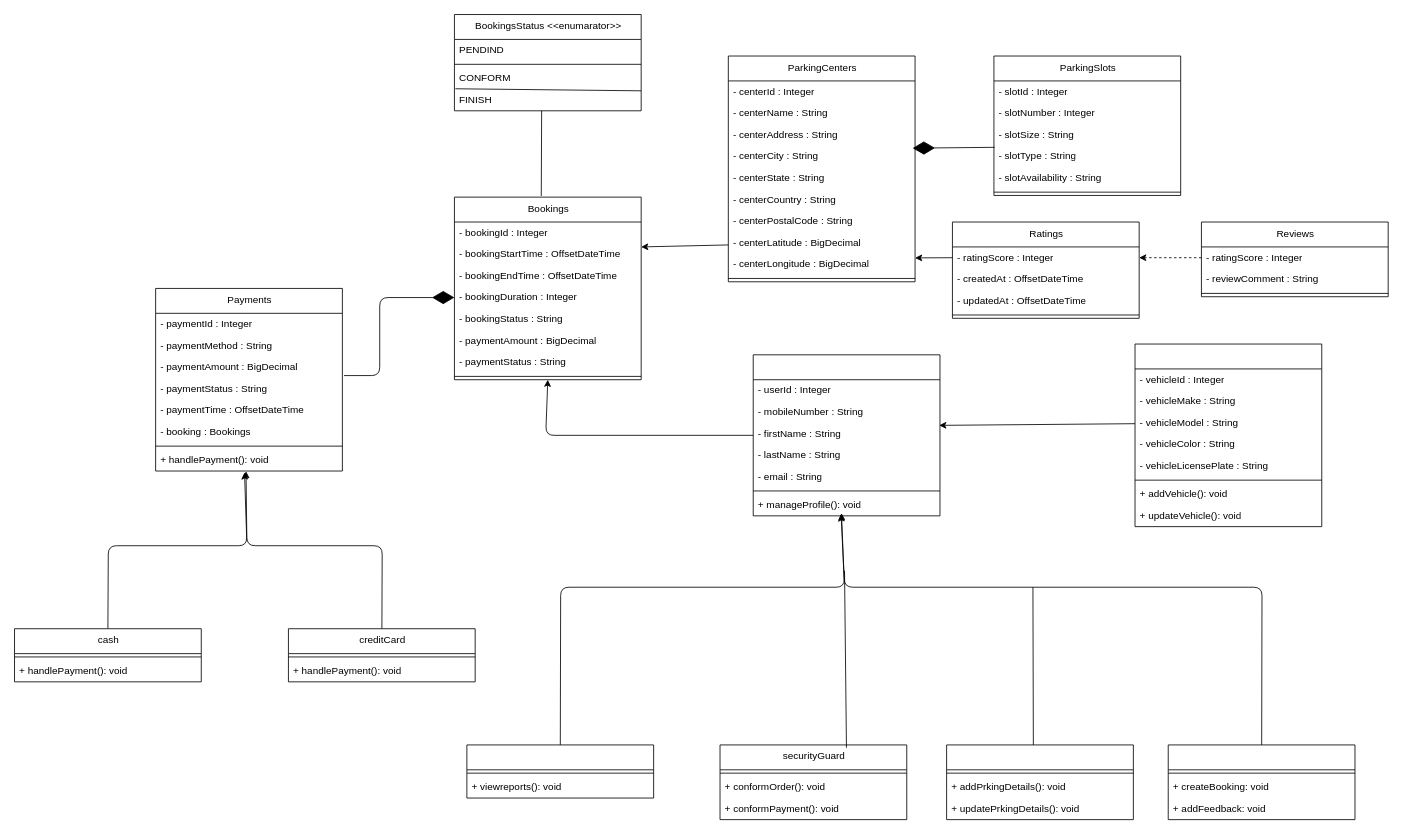
Image size: 1403x834. Some labels were removed from this diagram. Here are the shapes that lost their labels. From the top down, the box of each, then its label:
(752, 354, 940, 516): Users
(1134, 343, 1322, 527): Vehicles
(466, 744, 654, 798): admin
(946, 744, 1133, 820): ParkOwner
(1167, 744, 1355, 820): carOwner
